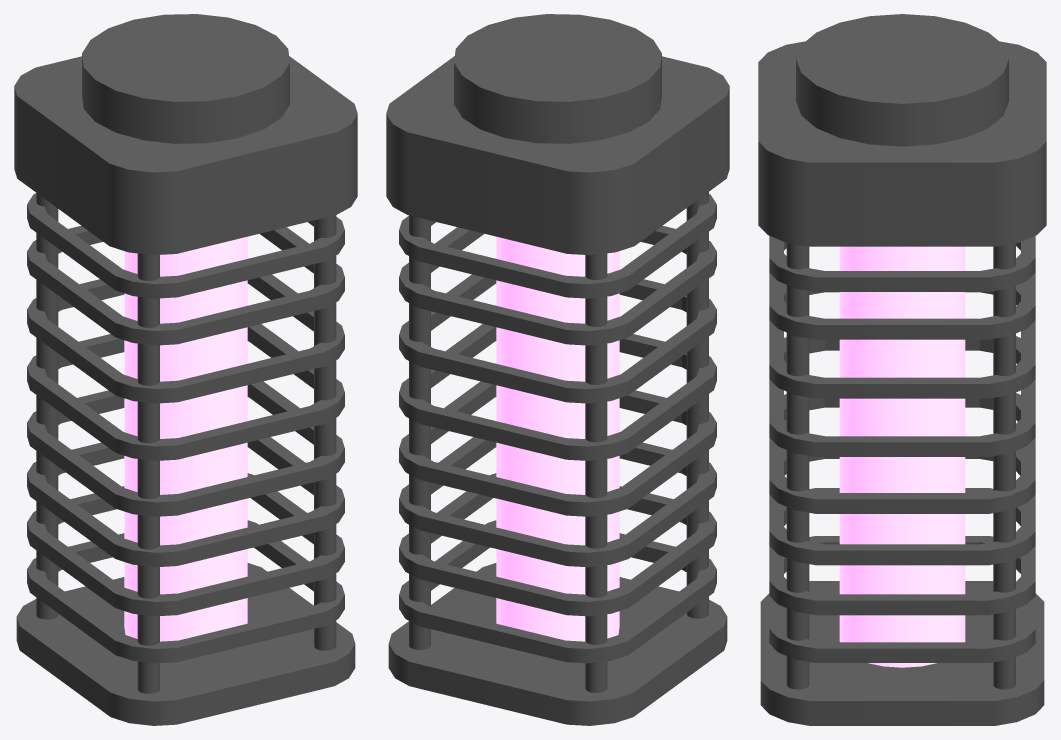
Rendered from Zapper.fbx.
3 renders of one model, left to right at view 1: azimuth 30°, elevation 25°; view 2: azimuth 150°, elevation 25°; view 3: azimuth 270°, elevation 25°, orthographic.
Visible parts, largest first — view 1: HeartTop, ZapperZapper, ZapperTop, Base, Bar5, Bar4, Bar3, Bar6, Bar2, Bar1, Bar7, Bar8 (+3 smaller); view 2: HeartTop, ZapperZapper, ZapperTop, Base, Bar5, Bar4, Bar3, Bar6, Bar2, Bar1, Bar7, Bar8 (+3 smaller); view 3: HeartTop, ZapperZapper, ZapperTop, Base, Bar5, Bar4, Bar6, Bar3, Bar2, Bar1, Support1, Bar7 (+2 smaller).
Part boxes in pixels (<box>): HeartTop: <box>14,56,357,255</box>; ZapperZapper: <box>124,236,247,641</box>; ZapperTop: <box>82,14,289,143</box>; Base: <box>16,563,355,725</box>; Bar5: <box>27,324,344,460</box>; Bar4: <box>27,381,344,516</box>; Bar3: <box>27,437,344,567</box>; Bar6: <box>27,274,344,403</box>; Bar2: <box>27,473,344,616</box>; Bar1: <box>27,520,344,663</box>; Bar7: <box>27,225,344,345</box>; Bar8: <box>27,193,344,298</box>; HeartTop: <box>386,56,729,255</box>; ZapperZapper: <box>496,236,619,641</box>; ZapperTop: <box>454,14,661,143</box>; Base: <box>388,563,727,725</box>; Bar5: <box>399,324,716,460</box>; Bar4: <box>399,381,716,516</box>; Bar3: <box>399,437,716,567</box>; Bar6: <box>399,274,716,403</box>; Bar2: <box>399,473,716,616</box>; Bar1: <box>399,520,716,663</box>; Bar7: <box>399,225,716,345</box>; Bar8: <box>399,194,716,298</box>; HeartTop: <box>758,41,1046,246</box>; ZapperZapper: <box>839,246,965,667</box>; ZapperTop: <box>796,14,1008,146</box>; Base: <box>760,581,1044,725</box>; Bar5: <box>769,336,1035,456</box>; Bar4: <box>769,393,1035,513</box>; Bar6: <box>769,284,1035,398</box>; Bar3: <box>769,449,1035,565</box>; Bar2: <box>769,488,1035,615</box>; Bar1: <box>769,536,1035,662</box>; Support1: <box>786,243,809,689</box>; Bar7: <box>769,242,1035,339</box>.
Size of the model in its own units: 0.9645 by 2.24 by 0.9645.
